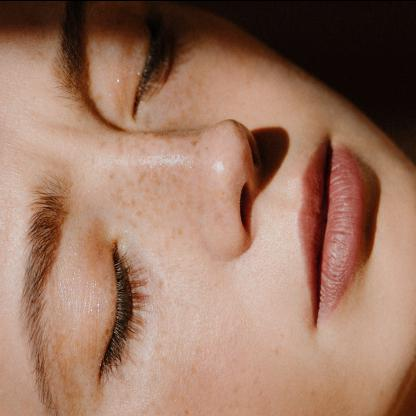Eye: (83, 226, 143, 390), (118, 0, 172, 128)
Mouth: (294, 134, 372, 335)
Nose: (119, 109, 264, 261)
